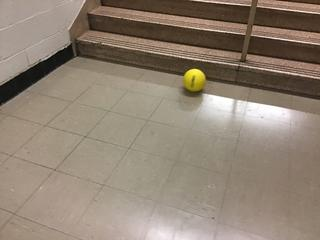power_cell: (183, 65, 209, 91)
